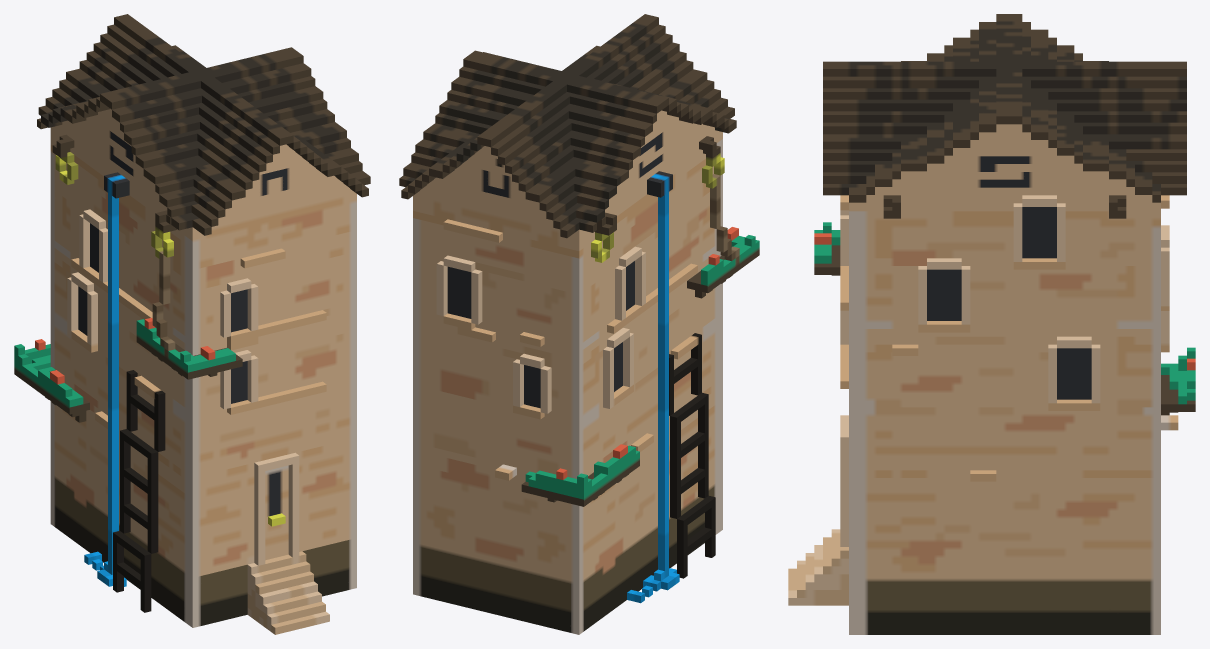
File: Batman_House.fbx
The picture shows the model from 3 angles, left to right: view 1: azimuth 30°, elevation 25°; view 2: azimuth 150°, elevation 25°; view 3: azimuth 270°, elevation 25°; orthographic projection. The views are drawn at different scales.
Parts seen in each view (by area): view 1: Matrix; view 2: Matrix; view 3: Matrix.
Boxes of the visible parts, <box> form: Matrix: <box>14,14,370,634</box>; Matrix: <box>399,14,759,634</box>; Matrix: <box>788,14,1195,634</box>.
Size of the model in its own units: 29 by 67 by 47.
Materials: 1 (1 with a texture image).
